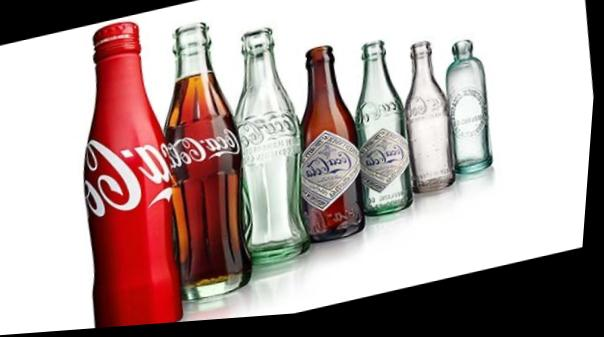glass: (84, 22, 181, 326), (165, 23, 250, 300), (234, 28, 309, 264), (301, 46, 363, 240), (355, 41, 411, 214), (405, 41, 453, 191), (446, 40, 491, 173)
